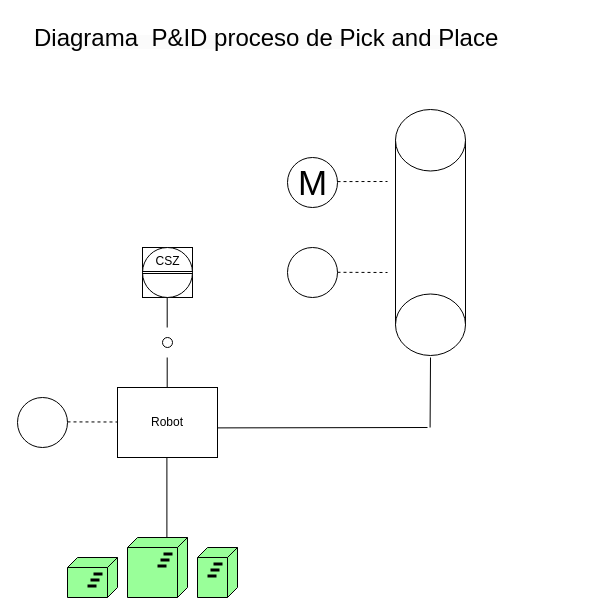
Some shapes in this 610 by 615 pixel diagram are drawn without their labels. Each missing label, with the centre of its shape:
"PT" belongs at pixel 42 422.
"ZT" belongs at pixel 312 272.
